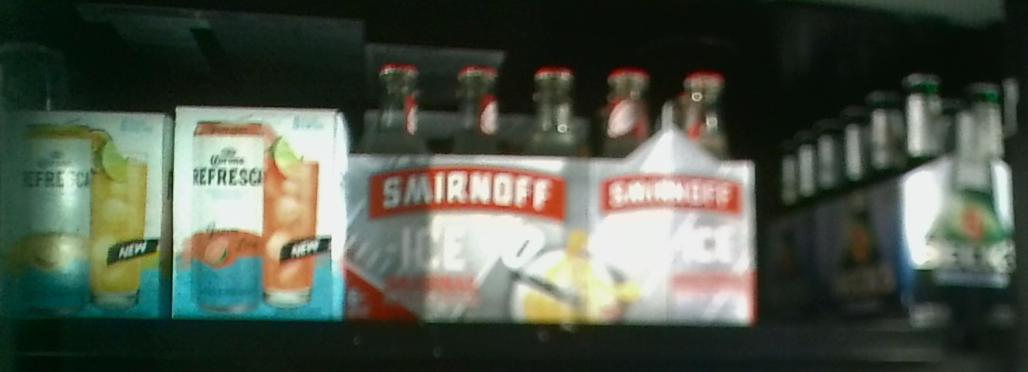bottle: (352, 60, 587, 320), (591, 66, 753, 324), (172, 106, 345, 325), (4, 113, 172, 324)
